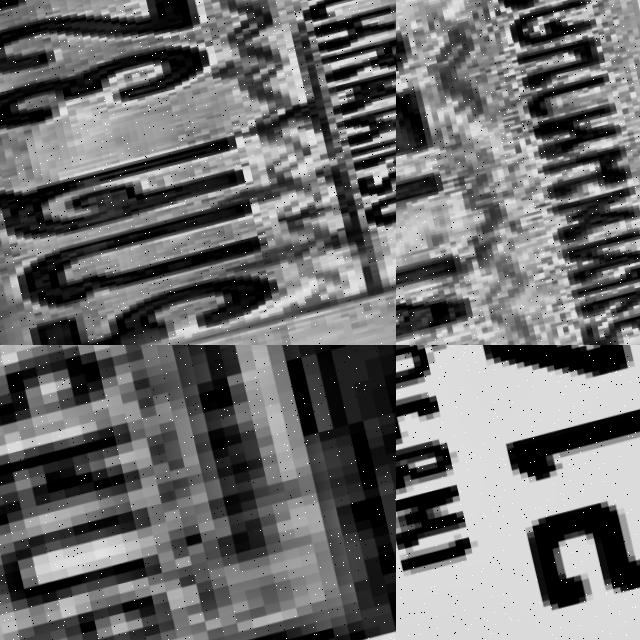license-plate: (0, 0, 396, 345), (0, 345, 373, 640), (396, 0, 640, 345), (396, 345, 640, 640)
